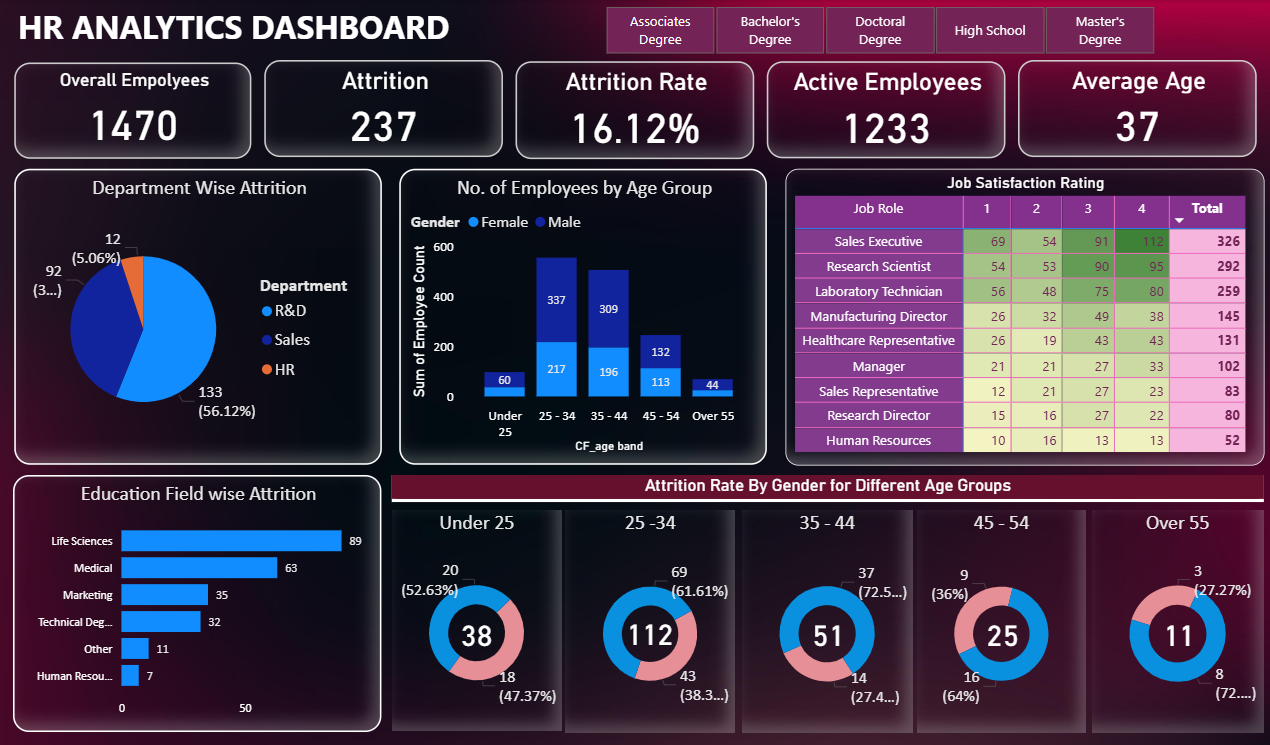

The page's visual inventory and layout, read from the dashboard file:
{"tool":"powerbi","page":{"name":"Page 1","canvas":[1280,750],"ordinal":0},"visuals":[{"type":"card","title":"Overall Empolyees","fields":{"Values":["Sum(HR Data xlsx - HR data.Employee Count)"]},"box":[16.3,62.6,238.7,96.9],"z":0},{"type":"pieChart","title":"Department Wise Attrition ","fields":{"Category":["HR Data xlsx - HR data.Department"],"Y":["Sum(HR Data xlsx - HR data.Attrition Count)"]},"box":[16.3,169.9,369.5,297.8],"z":1000},{"type":"card","title":"Attrition ","fields":{"Values":["Sum(HR Data xlsx - HR data.Attrition Count)"]},"box":[268.2,60.3,240,97.5],"z":2000},{"type":"columnChart","title":"No. of  Employees by Age Group","fields":{"Category":["HR Data xlsx - HR data.CF_age band"],"Y":["Sum(HR Data xlsx - HR data.Employee Count)"],"Series":["HR Data xlsx - HR data.Gender"]},"box":[403.4,169.7,369.6,297.5],"z":3000},{"type":"card","title":"Attrition Rate","fields":{"Values":["HR Data xlsx - HR data.Attrition Rate"]},"box":[519.8,61.1,240,98],"z":4000},{"type":"pivotTable","title":"Job Satisfaction Rating","fields":{"Rows":["HR Data xlsx - HR data.Job Role"],"Columns":["HR Data xlsx - HR data.Job Satisfaction"],"Values":["Sum(HR Data xlsx - HR data.Employee Count)"]},"box":[791.5,169.7,481.5,298],"z":5000},{"type":"card","title":"Average Age","fields":{"Values":["Avg(HR Data xlsx - HR data.Age)"]},"box":[1025.5,60.3,240,97.5],"z":6000},{"type":"barChart","title":"Education Field wise Attrition","fields":{"Category":["HR Data xlsx - HR data.Education Field"],"Y":["Sum(HR Data xlsx - HR data.Attrition Count)"]},"box":[15.1,477.6,370,258.4],"z":7000},{"type":"card","title":"Active Employees","fields":{"Values":["HR Data xlsx - HR data.Active Emp"]},"box":[773.1,62.1,240,97.5],"z":8000},{"type":"donutChart","title":"Under 25","fields":{"Category":["HR Data xlsx - HR data.Gender"],"Y":["Sum(HR Data xlsx - HR data.Attrition Count)"],"Series":["HR Data xlsx - HR data.CF_age band"]},"box":[395.9,512.7,170.9,222.4],"z":9000},{"type":"textbox","title":"Attrition Rate By Gender for Different Age Groups ","box":[395.8,477.5,876.7,27.5],"z":10000},{"type":"donutChart","title":"45 - 54","fields":{"Category":["HR Data xlsx - HR data.Gender"],"Y":["Sum(HR Data xlsx - HR data.Attrition Count)"],"Series":["HR Data xlsx - HR data.CF_age band"]},"box":[924.2,512.8,170.5,224.3],"z":11000},{"type":"donutChart","title":"35 - 44","fields":{"Category":["HR Data xlsx - HR data.Gender"],"Y":["Sum(HR Data xlsx - HR data.Attrition Count)"],"Series":["HR Data xlsx - HR data.CF_age band"]},"box":[747.2,512.2,172,224.3],"z":12000},{"type":"donutChart","title":"25 -34","fields":{"Category":["HR Data xlsx - HR data.Gender"],"Y":["Sum(HR Data xlsx - HR data.Attrition Count)"],"Series":["HR Data xlsx - HR data.CF_age band"]},"box":[570.7,512.8,170.5,224.3],"z":13000},{"type":"donutChart","title":"Over 55","fields":{"Category":["HR Data xlsx - HR data.Gender"],"Y":["Sum(HR Data xlsx - HR data.Attrition Count)"],"Series":["HR Data xlsx - HR data.CF_age band"]},"box":[1099.7,512.2,173,224.3],"z":14000},{"type":"card","fields":{"Values":["Sum(HR Data xlsx - HR data.Attrition Count)"]},"box":[459.2,615.4,45.4,43.1],"z":15000},{"type":"card","fields":{"Values":["Sum(HR Data xlsx - HR data.Attrition Count)"]},"box":[984.3,615.5,52.7,43.3],"z":16000},{"type":"card","fields":{"Values":["Sum(HR Data xlsx - HR data.Attrition Count)"]},"box":[807,615.5,55.3,43.3],"z":17000},{"type":"card","fields":{"Values":["Sum(HR Data xlsx - HR data.Attrition Count)"]},"box":[970.7,1012.7,42.7,43.3],"z":18000},{"type":"card","fields":{"Values":["Sum(HR Data xlsx - HR data.Attrition Count)"]},"box":[620,615,71.7,43.3],"z":19000},{"type":"card","fields":{"Values":["Sum(HR Data xlsx - HR data.Attrition Count)"]},"box":[1166.3,615.5,42.7,43.3],"z":20000},{"type":"textbox","box":[15.1,0,466.2,52.8],"z":21000},{"type":"slicer","fields":{"Values":["HR Data xlsx - HR data.Education"]},"box":[585.6,0,600.7,60.3],"z":22000}]}

Visuals, with their boxes in screenshot pixels (x1, y1, x2, y2), scaled from the page's 1280x750 canvas onto the 1270x745 screenshot:
"Overall Empolyees" card: {"left": 16, "top": 62, "right": 253, "bottom": 158}
"Department Wise Attrition " pieChart: {"left": 16, "top": 169, "right": 383, "bottom": 465}
"Attrition " card: {"left": 266, "top": 60, "right": 504, "bottom": 157}
"No. of  Employees by Age Group" columnChart: {"left": 400, "top": 169, "right": 767, "bottom": 464}
"Attrition Rate" card: {"left": 516, "top": 61, "right": 754, "bottom": 158}
"Job Satisfaction Rating" pivotTable: {"left": 785, "top": 169, "right": 1263, "bottom": 465}
"Average Age" card: {"left": 1017, "top": 60, "right": 1256, "bottom": 157}
"Education Field wise Attrition" barChart: {"left": 15, "top": 474, "right": 382, "bottom": 731}
"Active Employees" card: {"left": 767, "top": 62, "right": 1005, "bottom": 159}
"Under 25" donutChart: {"left": 393, "top": 509, "right": 562, "bottom": 730}
"Attrition Rate By Gender for Different Age Groups " textbox: {"left": 393, "top": 474, "right": 1263, "bottom": 502}
"45 - 54" donutChart: {"left": 917, "top": 509, "right": 1086, "bottom": 732}
"35 - 44" donutChart: {"left": 741, "top": 509, "right": 912, "bottom": 732}
"25 -34" donutChart: {"left": 566, "top": 509, "right": 735, "bottom": 732}
"Over 55" donutChart: {"left": 1091, "top": 509, "right": 1263, "bottom": 732}
card - Sum(HR Data xlsx - HR data.Attrition Count): {"left": 456, "top": 611, "right": 501, "bottom": 654}
card - Sum(HR Data xlsx - HR data.Attrition Count): {"left": 977, "top": 611, "right": 1029, "bottom": 654}
card - Sum(HR Data xlsx - HR data.Attrition Count): {"left": 801, "top": 611, "right": 856, "bottom": 654}
card - Sum(HR Data xlsx - HR data.Attrition Count): {"left": 615, "top": 611, "right": 686, "bottom": 654}
card - Sum(HR Data xlsx - HR data.Attrition Count): {"left": 1157, "top": 611, "right": 1200, "bottom": 654}
textbox: {"left": 15, "top": 0, "right": 478, "bottom": 52}
slicer - HR Data xlsx - HR data.Education: {"left": 581, "top": 0, "right": 1177, "bottom": 60}
